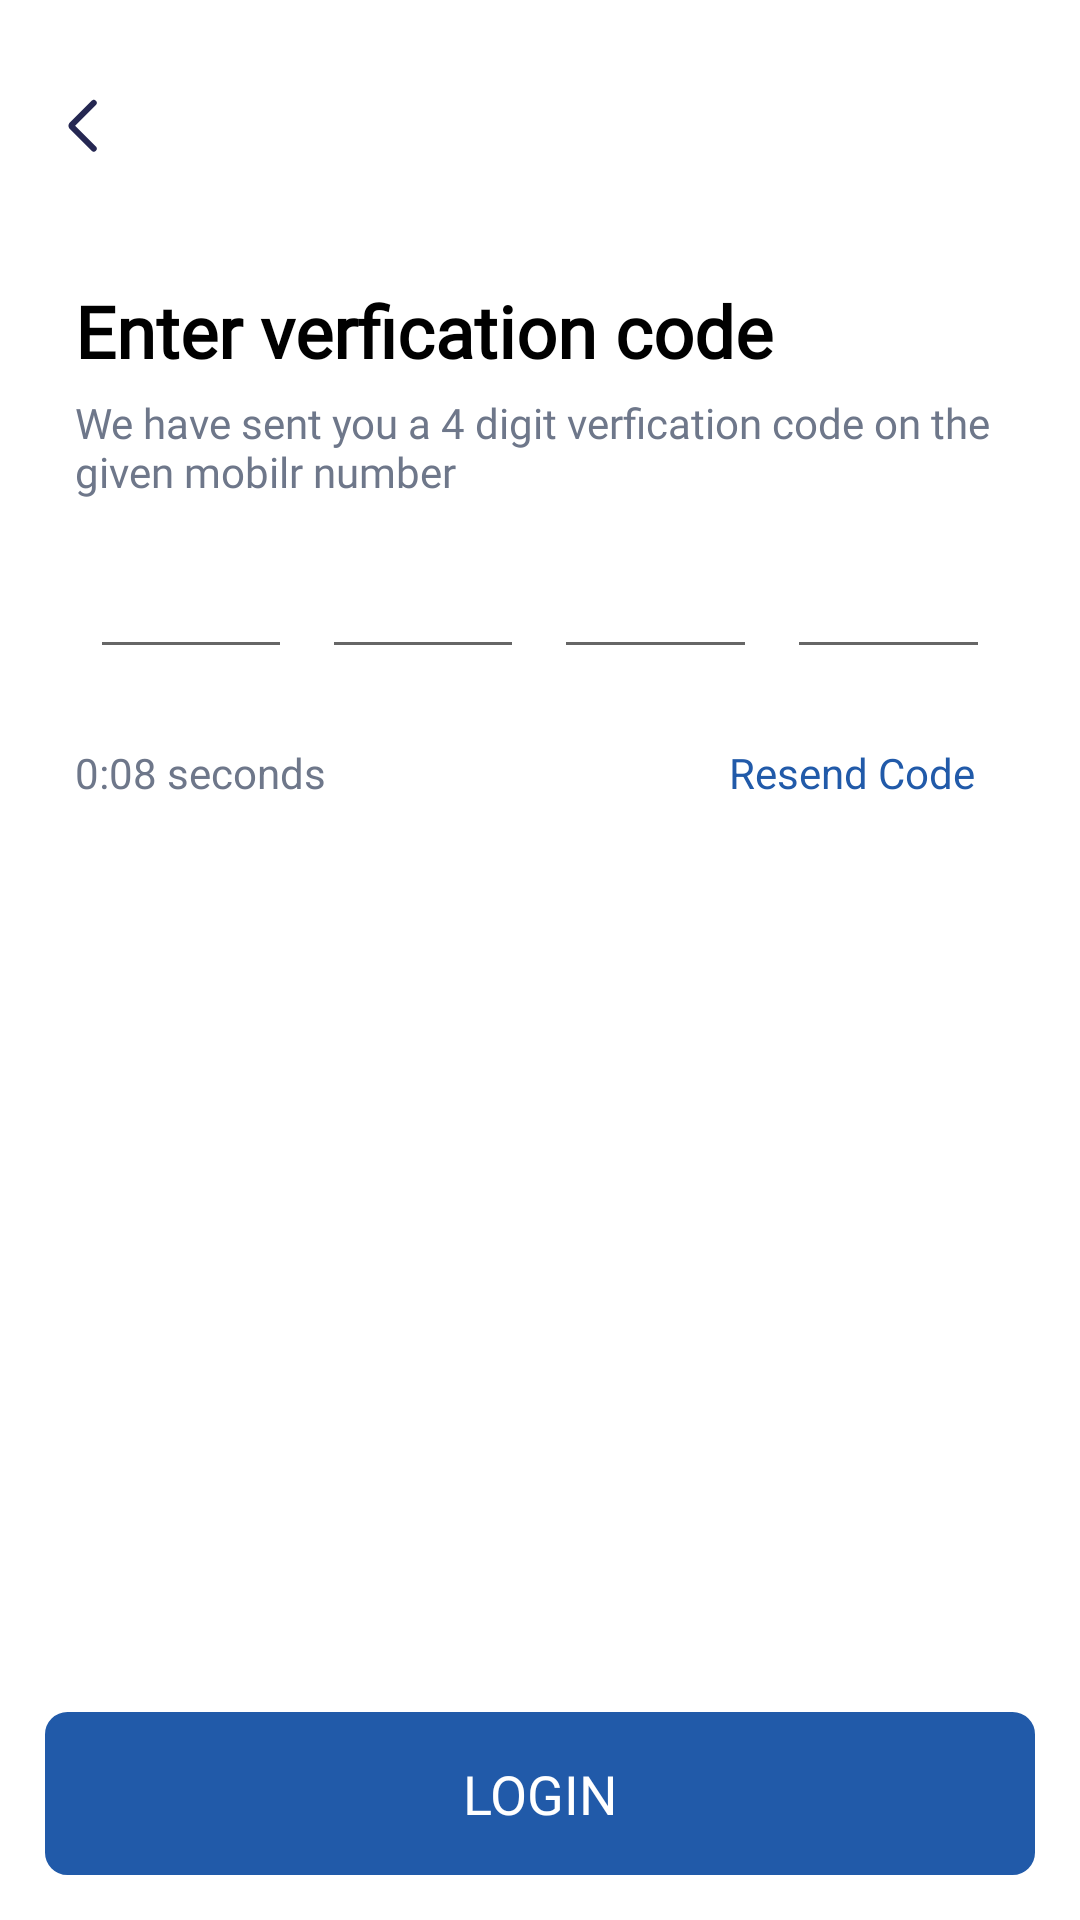

Locate icon controls on the screen. Image size 1080×1920, boxes as rect(x1, y1, x2, y2).
back: rect(68, 99, 97, 152)
